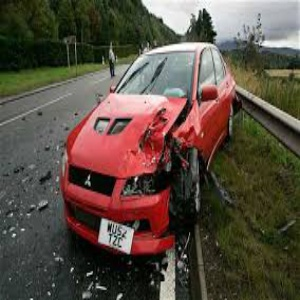bonnet: (125, 92, 179, 180)
bumper: (132, 184, 182, 253)
